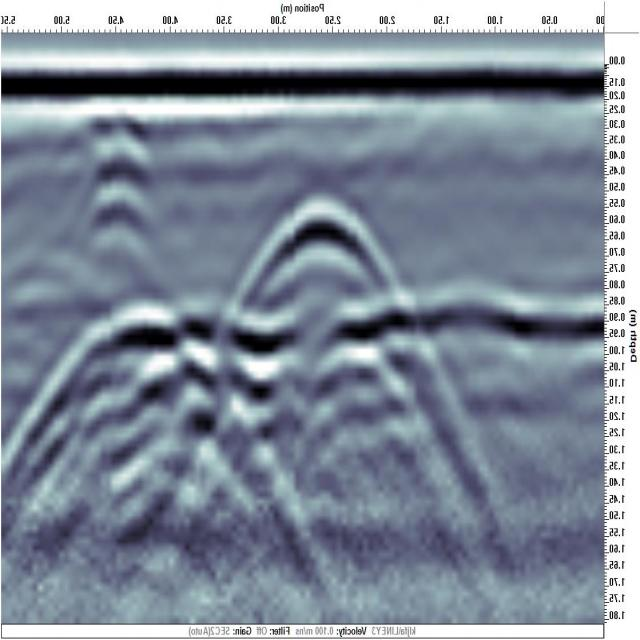hyperbola: (240, 189, 408, 309)
